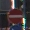No entry: (6, 6, 25, 25)
